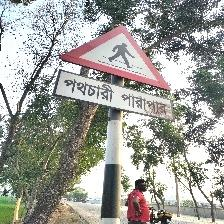Pedestrian-crossing: (55, 24, 175, 121)
